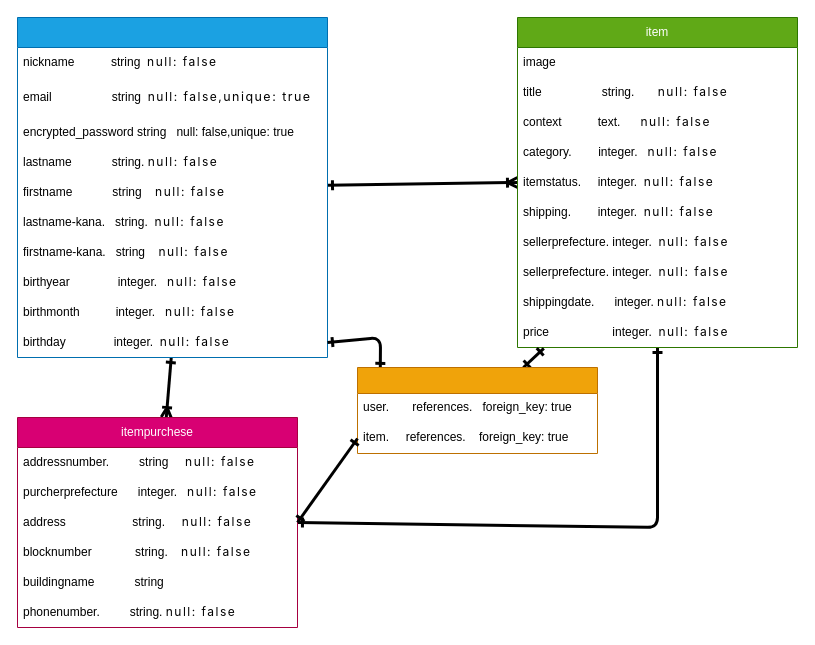
This 815x645 diagram has some shape labels left out. The shapes that lost their labels are listed below. From the top down, each one's box as (x1, y1, x2, y2) in pixels, then its label:
(16, 16, 328, 358): user
(356, 366, 598, 454): purchese_histories
